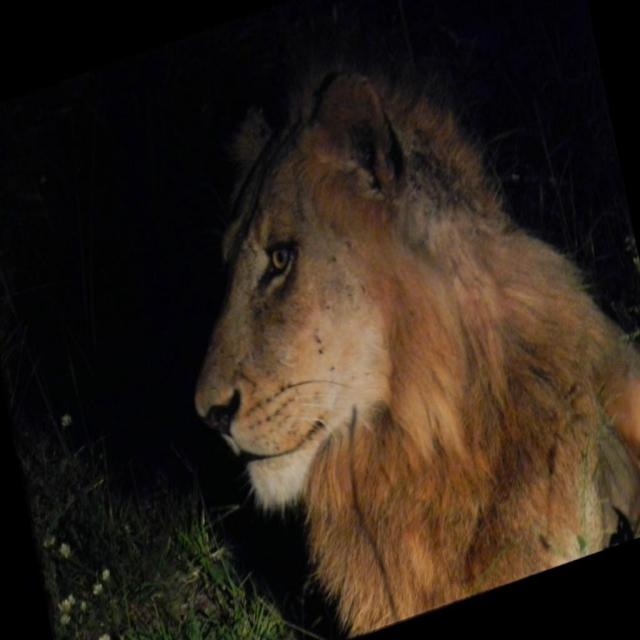Lion: (140, 0, 639, 639)
